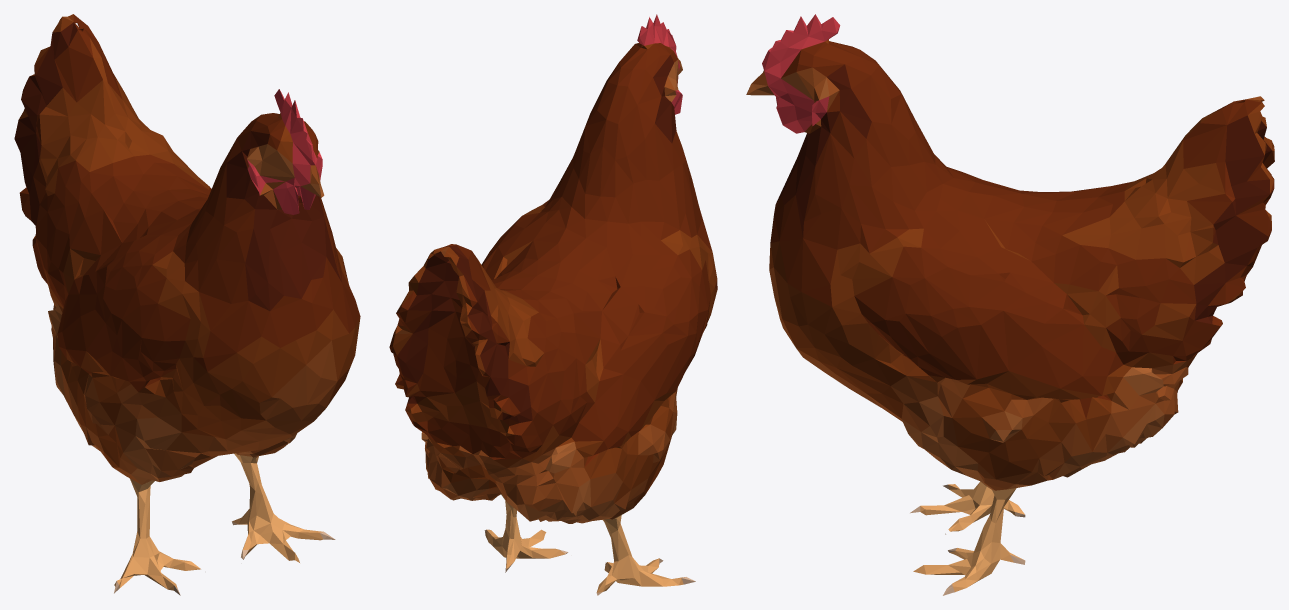
The model's file is LowPolyChicken.glb.
The picture shows the model from 3 angles, left to right: view 1: azimuth 30°, elevation 25°; view 2: azimuth 150°, elevation 25°; view 3: azimuth 270°, elevation 25°; orthographic projection. The views are drawn at different scales.
Parts seen in each view (by area): view 1: low-poly-chicken; view 2: low-poly-chicken; view 3: low-poly-chicken.
Part boxes in pixels (box(x1,y1,x2,y2)): low-poly-chicken: box(14, 14, 360, 595); low-poly-chicken: box(389, 14, 717, 595); low-poly-chicken: box(746, 14, 1274, 595).
Bounding box in the file's own units: 0.1984 × 0.4468 × 0.4036.
Materials: 1 (1 with a texture image).
